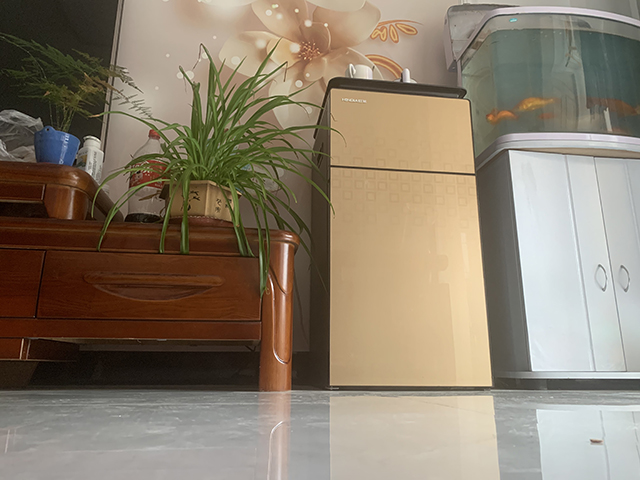cabinet: (1, 158, 301, 393), (307, 77, 495, 391), (475, 132, 640, 392)
